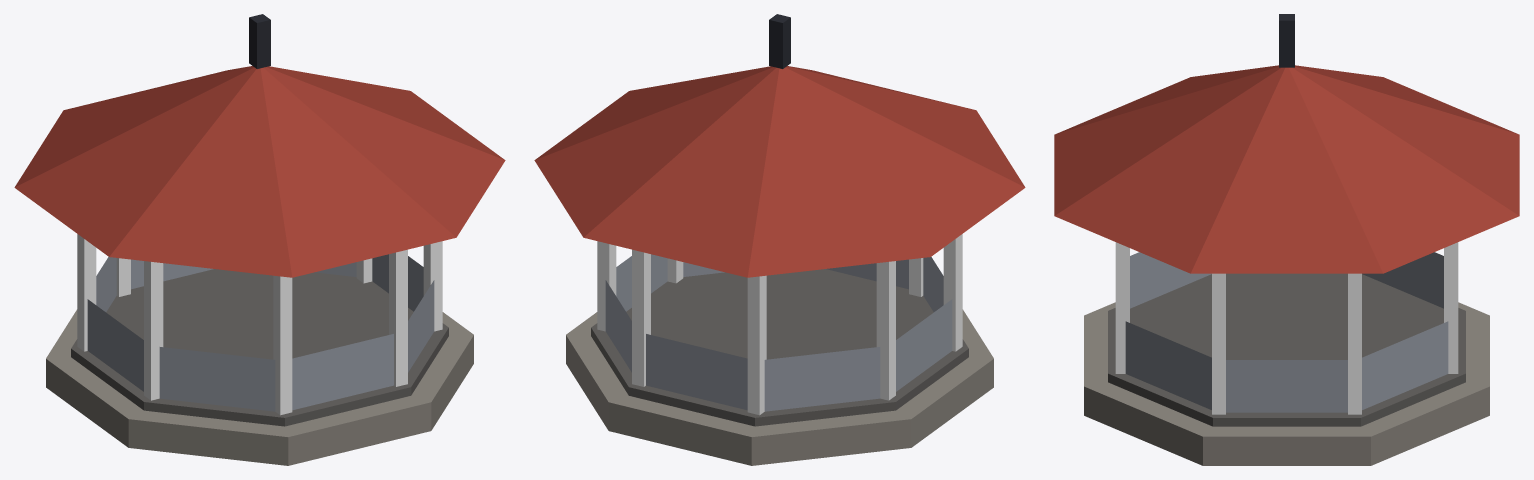
The model's file is kiosco_plaza.obj.
3 views of the same model, side by side, from view 1: azimuth 30°, elevation 25°; view 2: azimuth 150°, elevation 25°; view 3: azimuth 270°, elevation 25° (orthographic).
Visible parts, largest first — view 1: kiosco_plaza; view 2: kiosco_plaza; view 3: kiosco_plaza.
Part boxes in pixels (x1,y1,x2,y2): kiosco_plaza: [14, 14, 505, 465]; kiosco_plaza: [534, 14, 1025, 465]; kiosco_plaza: [1054, 14, 1519, 465].
Size of the model in its own units: 7.21 by 6.2 by 7.21.
